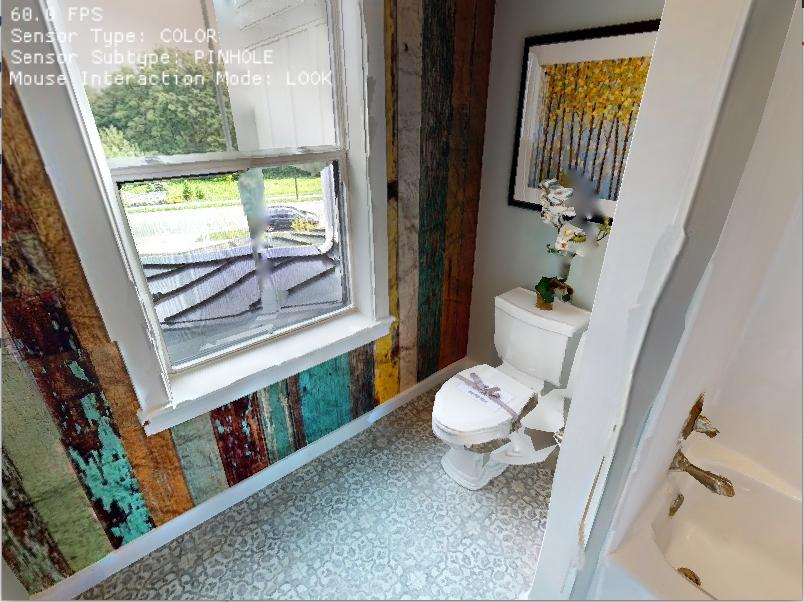toilet: (421, 246, 599, 510)
